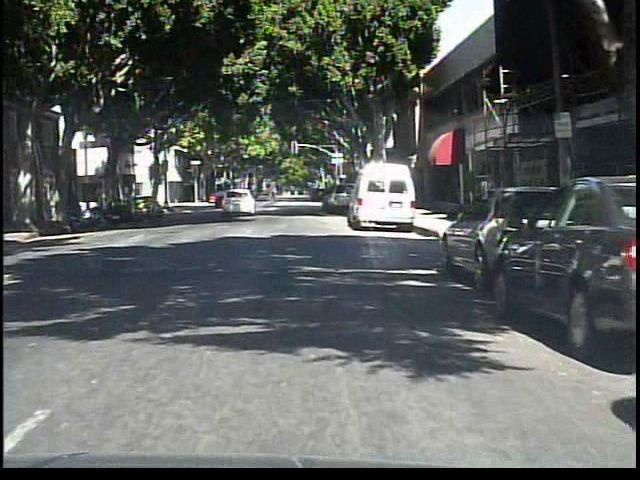person: (473, 167, 500, 226), (262, 179, 283, 212)
